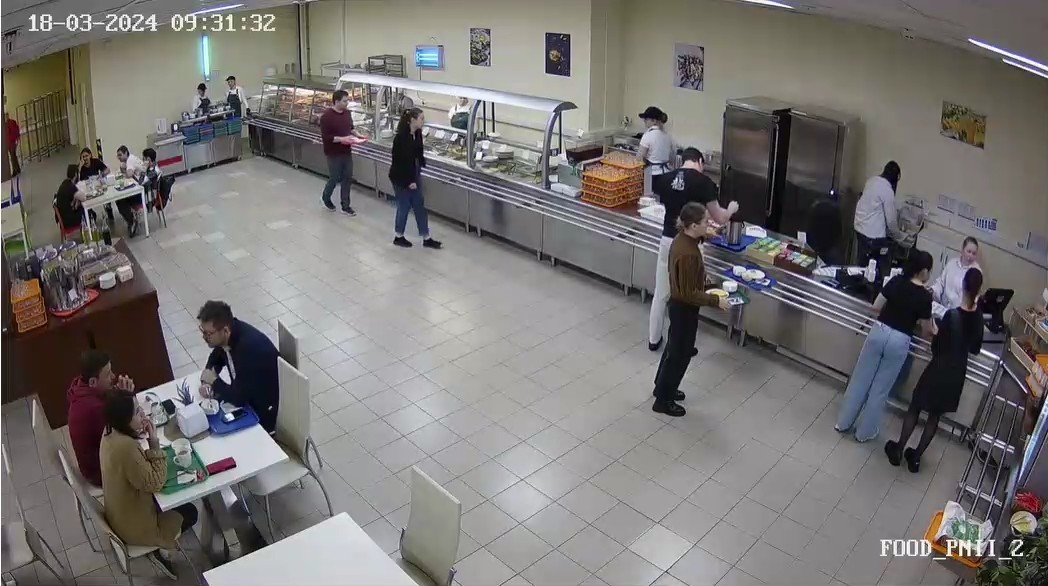Na_Kasse: (773, 241, 952, 445), (844, 263, 1006, 474)
Ne_v_Ocheredi: (5, 108, 29, 177)
Personal: (849, 158, 907, 264), (912, 229, 985, 305), (631, 99, 677, 171), (220, 70, 254, 124), (449, 88, 476, 135), (189, 77, 215, 119)
Vybiraet: (652, 206, 718, 422), (389, 107, 447, 248), (310, 86, 368, 220), (658, 146, 725, 200)
Za_Stolom: (189, 296, 291, 457), (101, 385, 169, 557), (55, 346, 121, 499), (48, 163, 87, 233), (137, 146, 171, 215), (109, 144, 148, 188), (72, 144, 112, 179)
